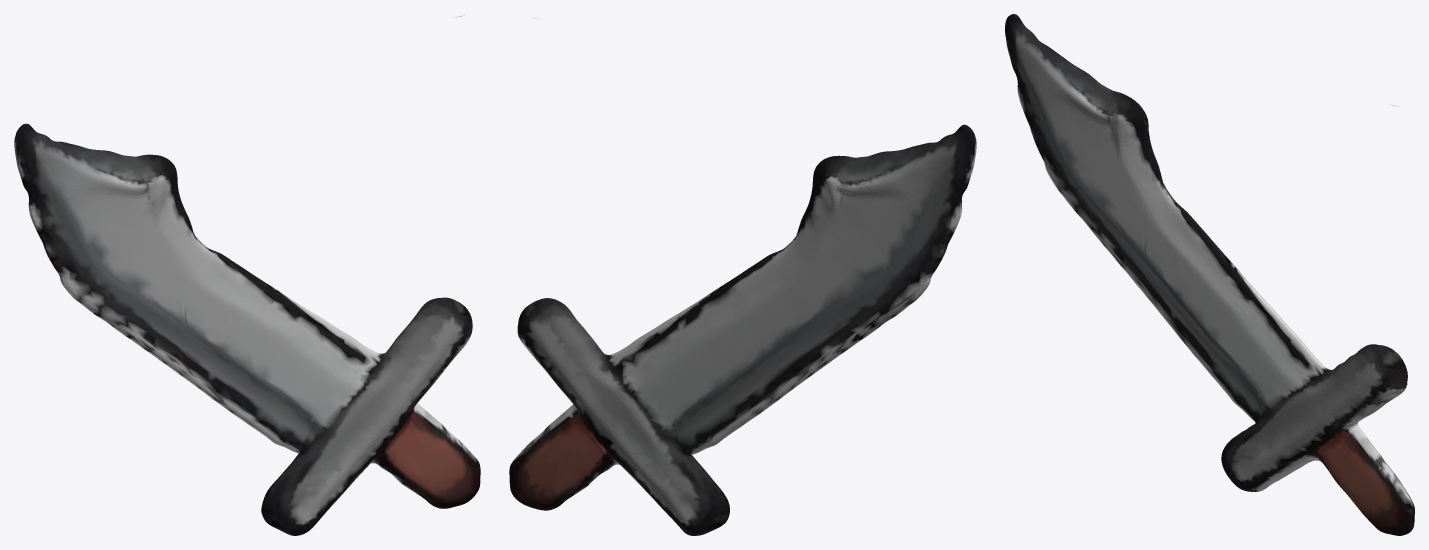
File: falchion.glb
3 renders of one model, left to right at view 1: azimuth 30°, elevation 25°; view 2: azimuth 150°, elevation 25°; view 3: azimuth 330°, elevation 25°, orthographic. The views are drawn at different scales.
Parts seen in each view (by area): view 1: geometry_0; view 2: geometry_0; view 3: geometry_0.
Boxes of the visible parts, x1,y1,x2,y2 form: geometry_0: [14, 16, 480, 535]; geometry_0: [509, 124, 976, 535]; geometry_0: [1005, 14, 1414, 535].
Size of the model in its own units: 0.875 by 0.8807 by 0.0757.
